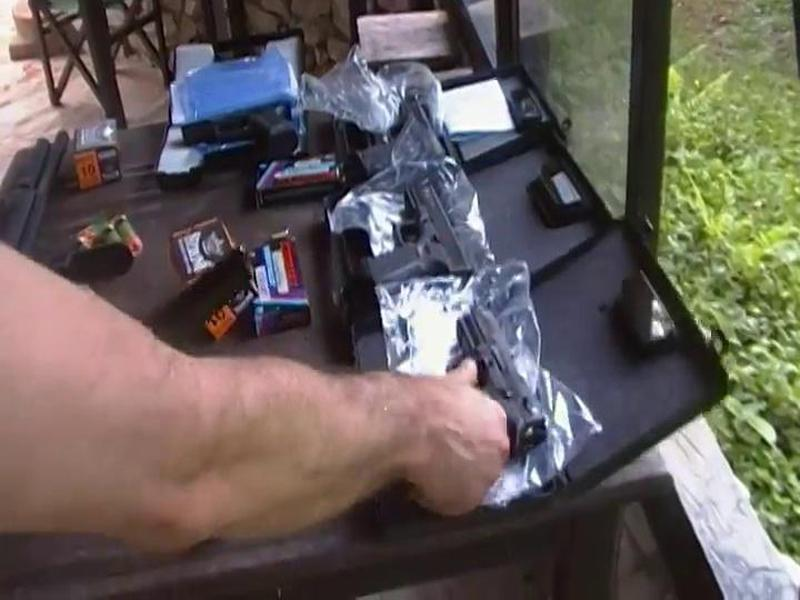Pistola: (406, 306, 555, 467), (357, 172, 491, 296)
